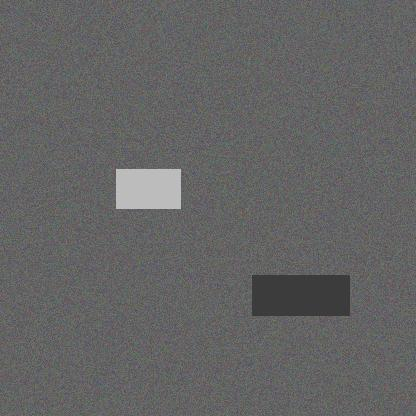empty: (65, 94, 115, 168), (233, 274, 293, 326), (69, 231, 133, 273), (150, 176, 196, 224)
